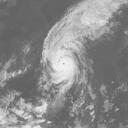cyclone: (41, 13, 93, 90)
